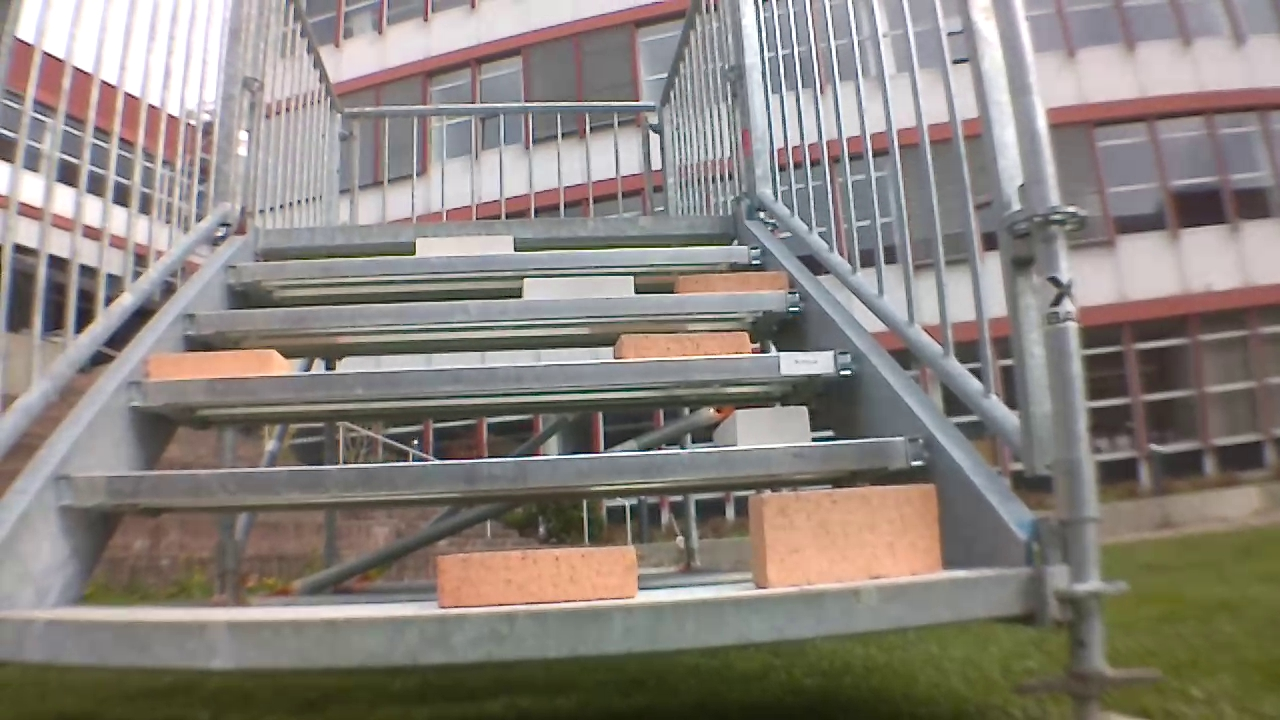brick: (747, 482, 937, 588), (431, 548, 644, 602), (136, 344, 287, 383), (607, 329, 754, 364), (723, 403, 819, 452), (402, 229, 522, 256), (517, 274, 643, 299), (677, 267, 793, 290)
edge: (9, 565, 1043, 671), (50, 430, 939, 509), (129, 347, 856, 408), (183, 286, 810, 335), (217, 238, 768, 285), (246, 215, 740, 243)
stairs: (0, 0, 1127, 708)
steps: (0, 197, 1068, 663)
